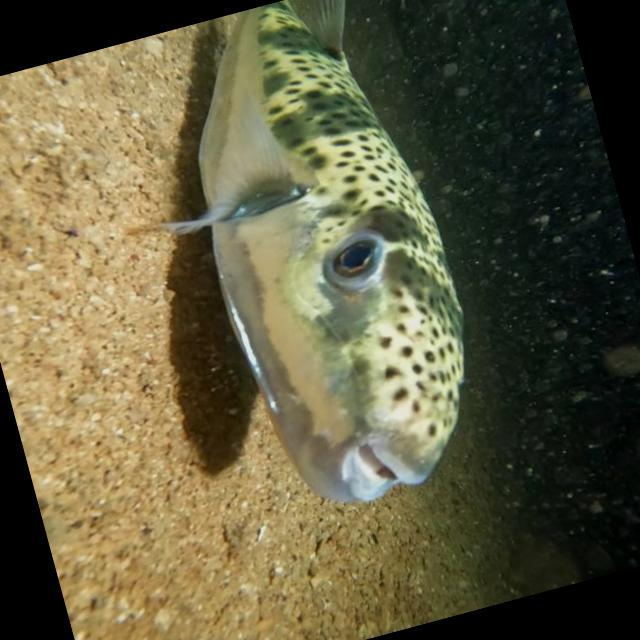Balon Baligi: (91, 0, 502, 538)
